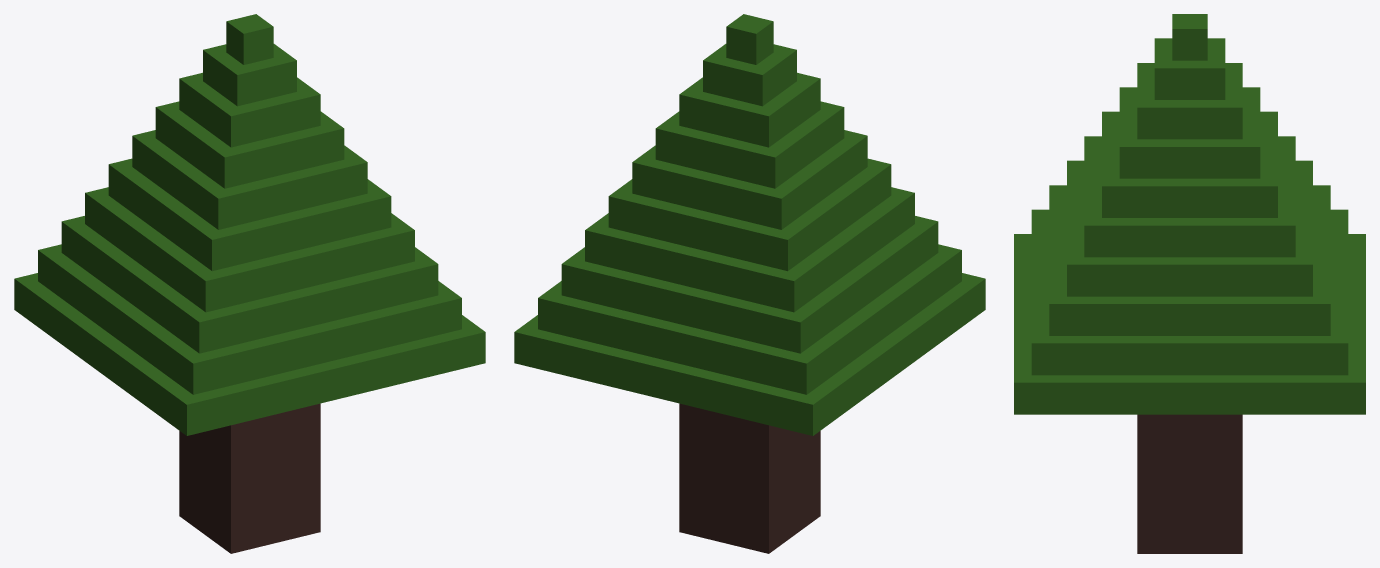
Rendered from Plants2-3-Tree1.obj.
3 views of the same model, side by side, from view 1: azimuth 30°, elevation 25°; view 2: azimuth 150°, elevation 25°; view 3: azimuth 270°, elevation 25° (orthographic). The views are drawn at different scales.
Parts seen in each view (by area): view 1: Tree1; view 2: Tree1; view 3: Tree1.
Boxes of the visible parts, box(x1,y1,x2,y2) form: Tree1: box(14, 14, 485, 553); Tree1: box(514, 14, 985, 553); Tree1: box(1014, 14, 1365, 553).
Size of the model in its own units: 2 by 3.2 by 2.
Materials: 1 (1 with a texture image).
